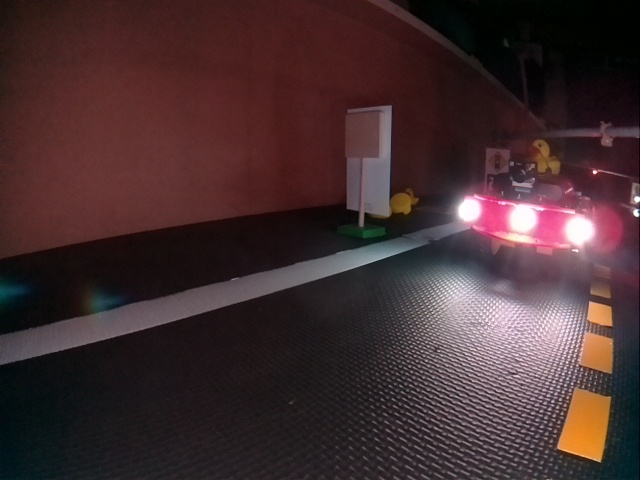Duckie: (527, 141, 560, 174), (391, 193, 412, 215), (405, 190, 419, 205)
Duckiebot: (460, 164, 596, 264)
Traffic light: (600, 122, 613, 147)
